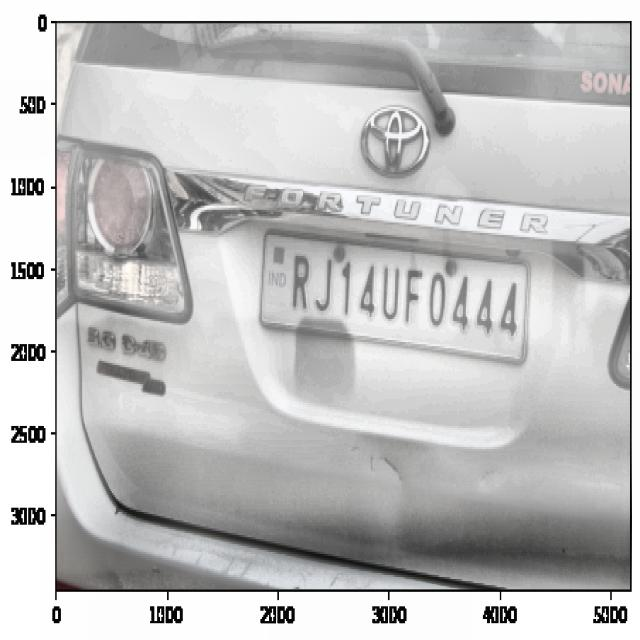license_plate: (282, 246, 523, 354)
